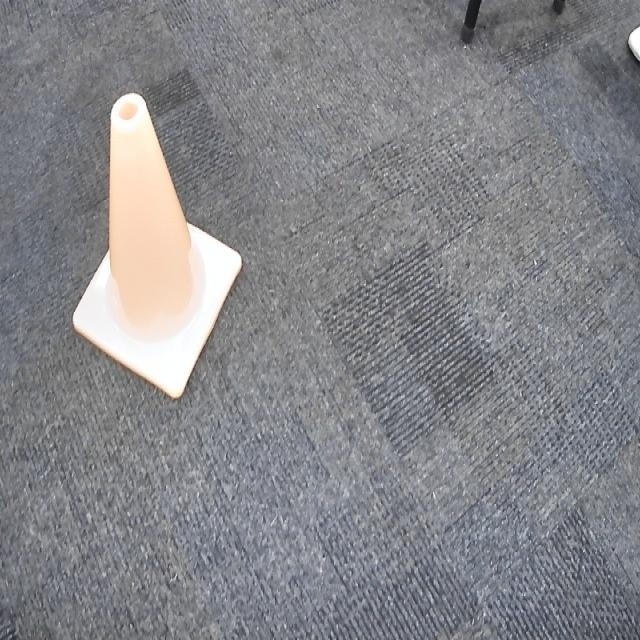cone: (68, 88, 246, 406)
